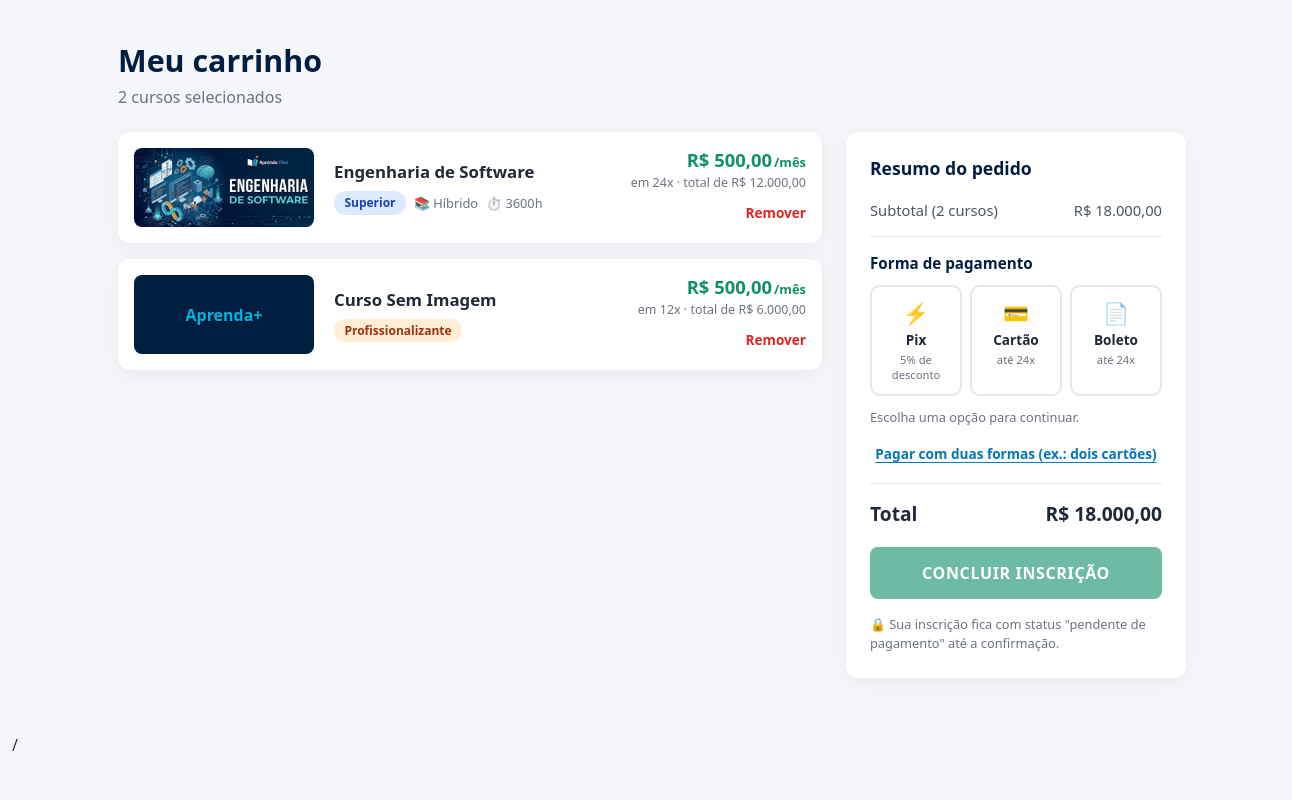
Test case: remover curso › remove, avisa e recarrega a lista
This screenshot has width=1292, height=800.
Expected: the heading "Meu carrinho" is shown, [118, 40, 322, 81]
Click the button "Remover" below "R$ 12.000,00": (776,212) [746, 199, 806, 226]
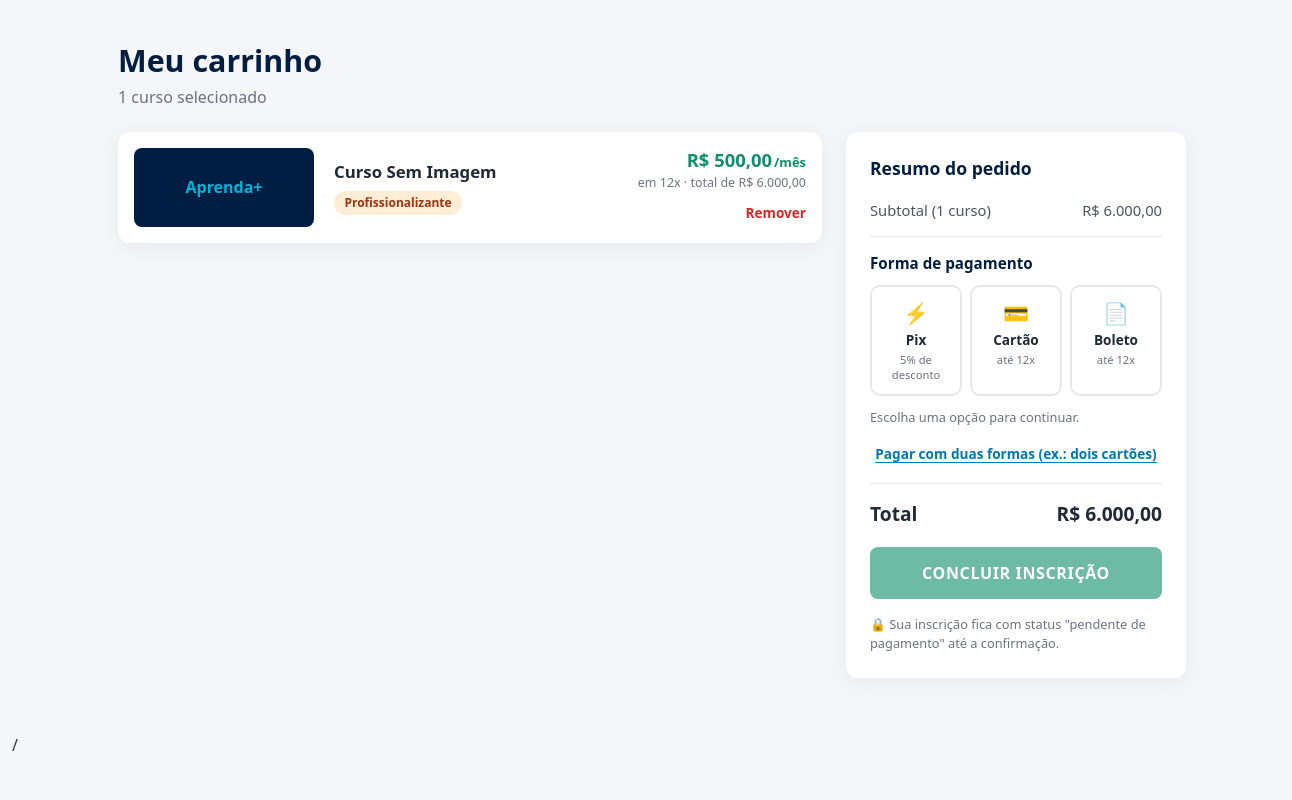
Result: the heading "Engenharia de Software" is gone
